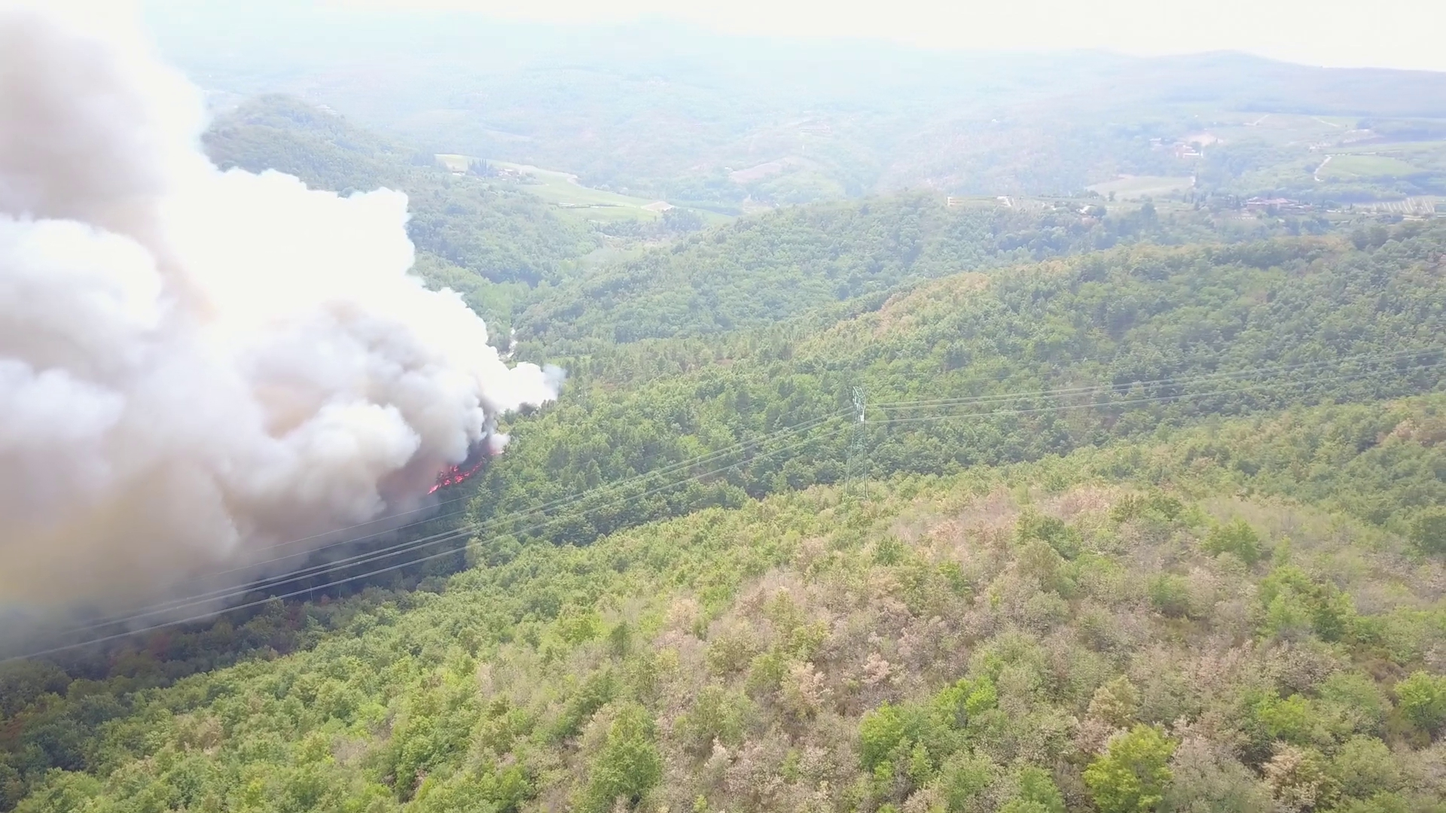forest_fire: (429, 445, 488, 493)
